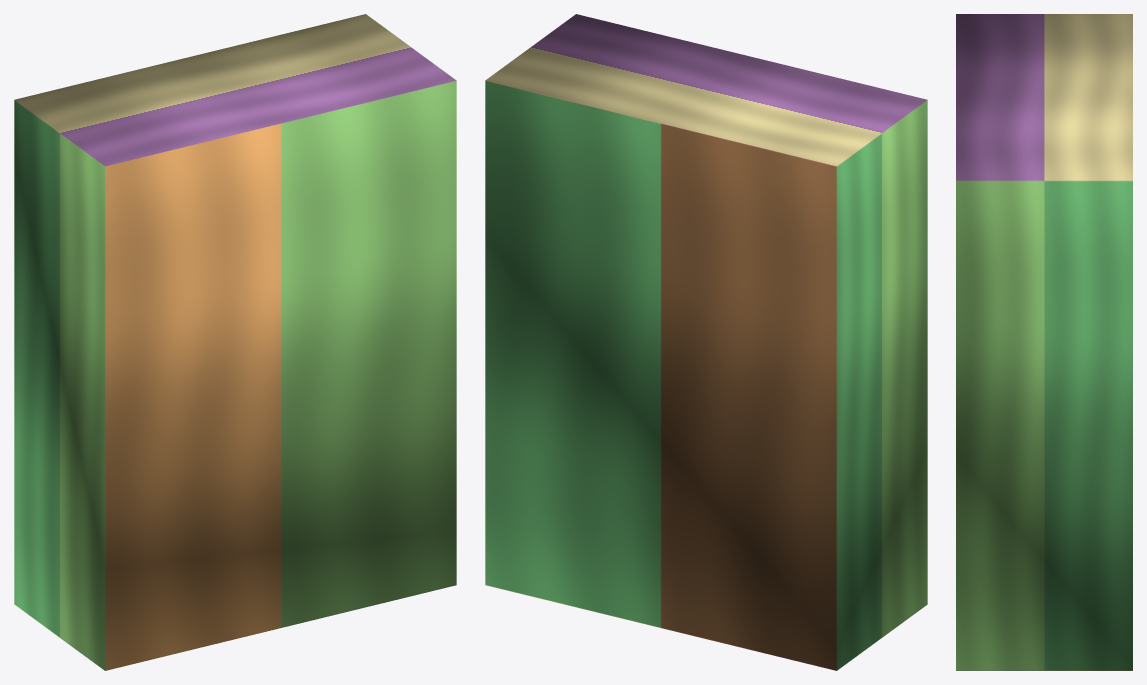
File: windmill_small.glb
3 renders of one model, left to right at view 1: azimuth 30°, elevation 25°; view 2: azimuth 150°, elevation 25°; view 3: azimuth 270°, elevation 25°, orthographic. The views are drawn at different scales.
Parts seen in each view (by area): view 1: col; view 2: col; view 3: col.
Part boxes in pixels (x1=…): col: x1=14, y1=14, x2=456, y2=670; col: x1=485, y1=14, x2=927, y2=670; col: x1=956, y1=14, x2=1132, y2=670.
Size of what is drawn, in the model's own units: 3.01 by 4.13 by 1.35.
1 material, 1 textured.
